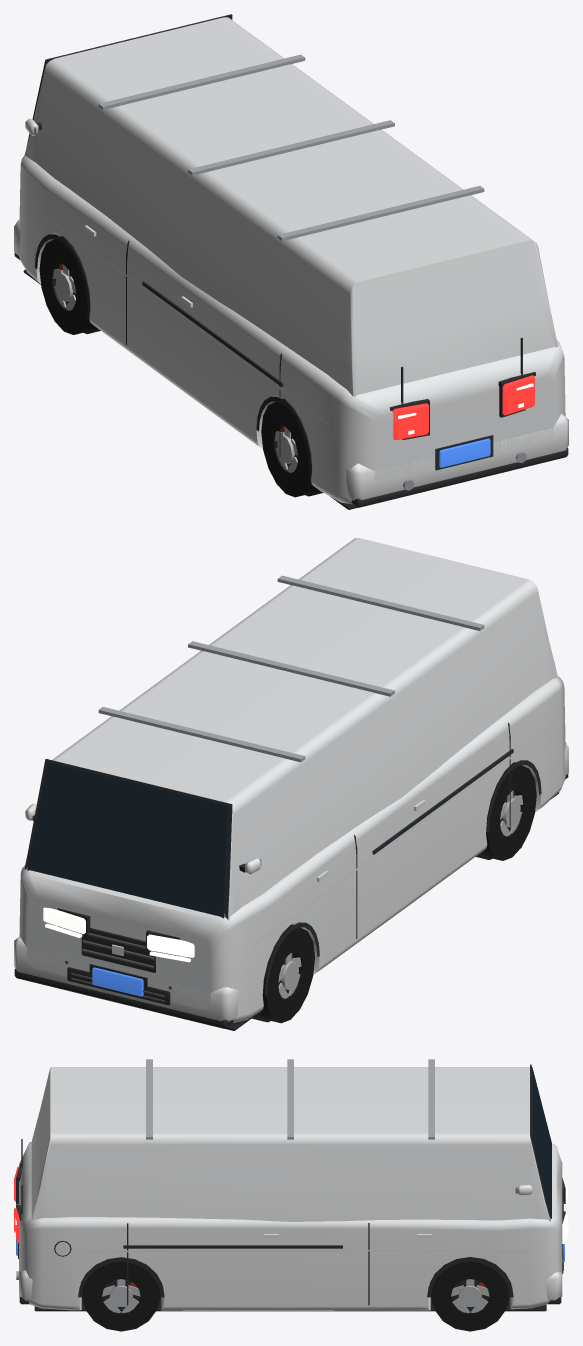
File: car_van_cargo_white.glb
3 renders of one model, top to bottom at view 1: azimuth 30°, elevation 25°; view 2: azimuth 150°, elevation 25°; view 3: azimuth 270°, elevation 25°, orthographic. The views are drawn at different scales.
Parts seen in each view (by area): view 1: Body, Trim, Wheel_FL, Wheel_RL, Lights, Plate_R; view 2: Body, Glass, Trim, Wheel_FL, Wheel_RL, Lights, Plate_F; view 3: Body, Trim, Wheel_FR, Wheel_RR, Glass, Lights.
Part boxes in pixels (x1,y1,x2,y2): Body: (14,17,568,504); Trim: (14,14,568,509); Wheel_FL: (39,237,95,334); Wheel_RL: (261,399,316,497); Lights: (392,375,534,440); Plate_R: (439,438,490,467); Body: (14,538,568,1022); Glass: (27,762,261,918); Trim: (14,575,568,1030); Wheel_FL: (258,925,314,1023); Wheel_RL: (481,763,536,860); Lights: (43,907,194,962); Plate_F: (92,967,143,996); Body: (19,1067,562,1310); Trim: (16,1059,565,1311); Wheel_FR: (431,1257,508,1331); Wheel_RR: (82,1257,159,1331); Glass: (515,1067,551,1218); Lights: (14,1166,568,1243).
Size of the model in its own units: 2.04 by 2.02 by 5.31.
